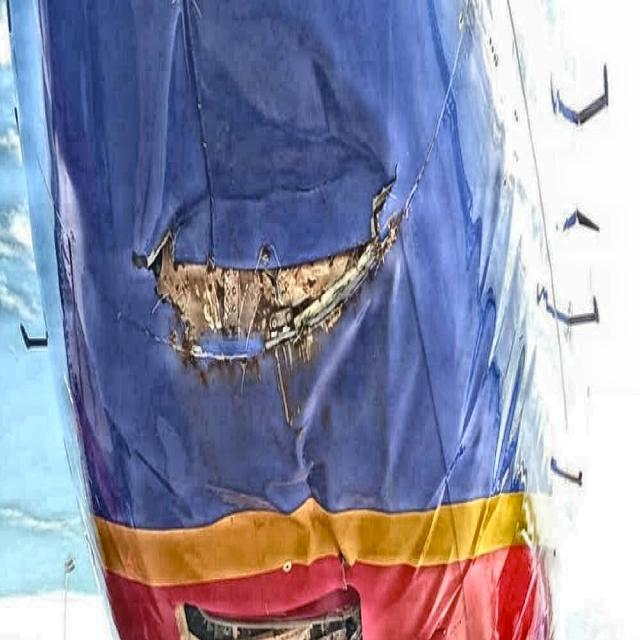crack: (134, 156, 415, 377)
